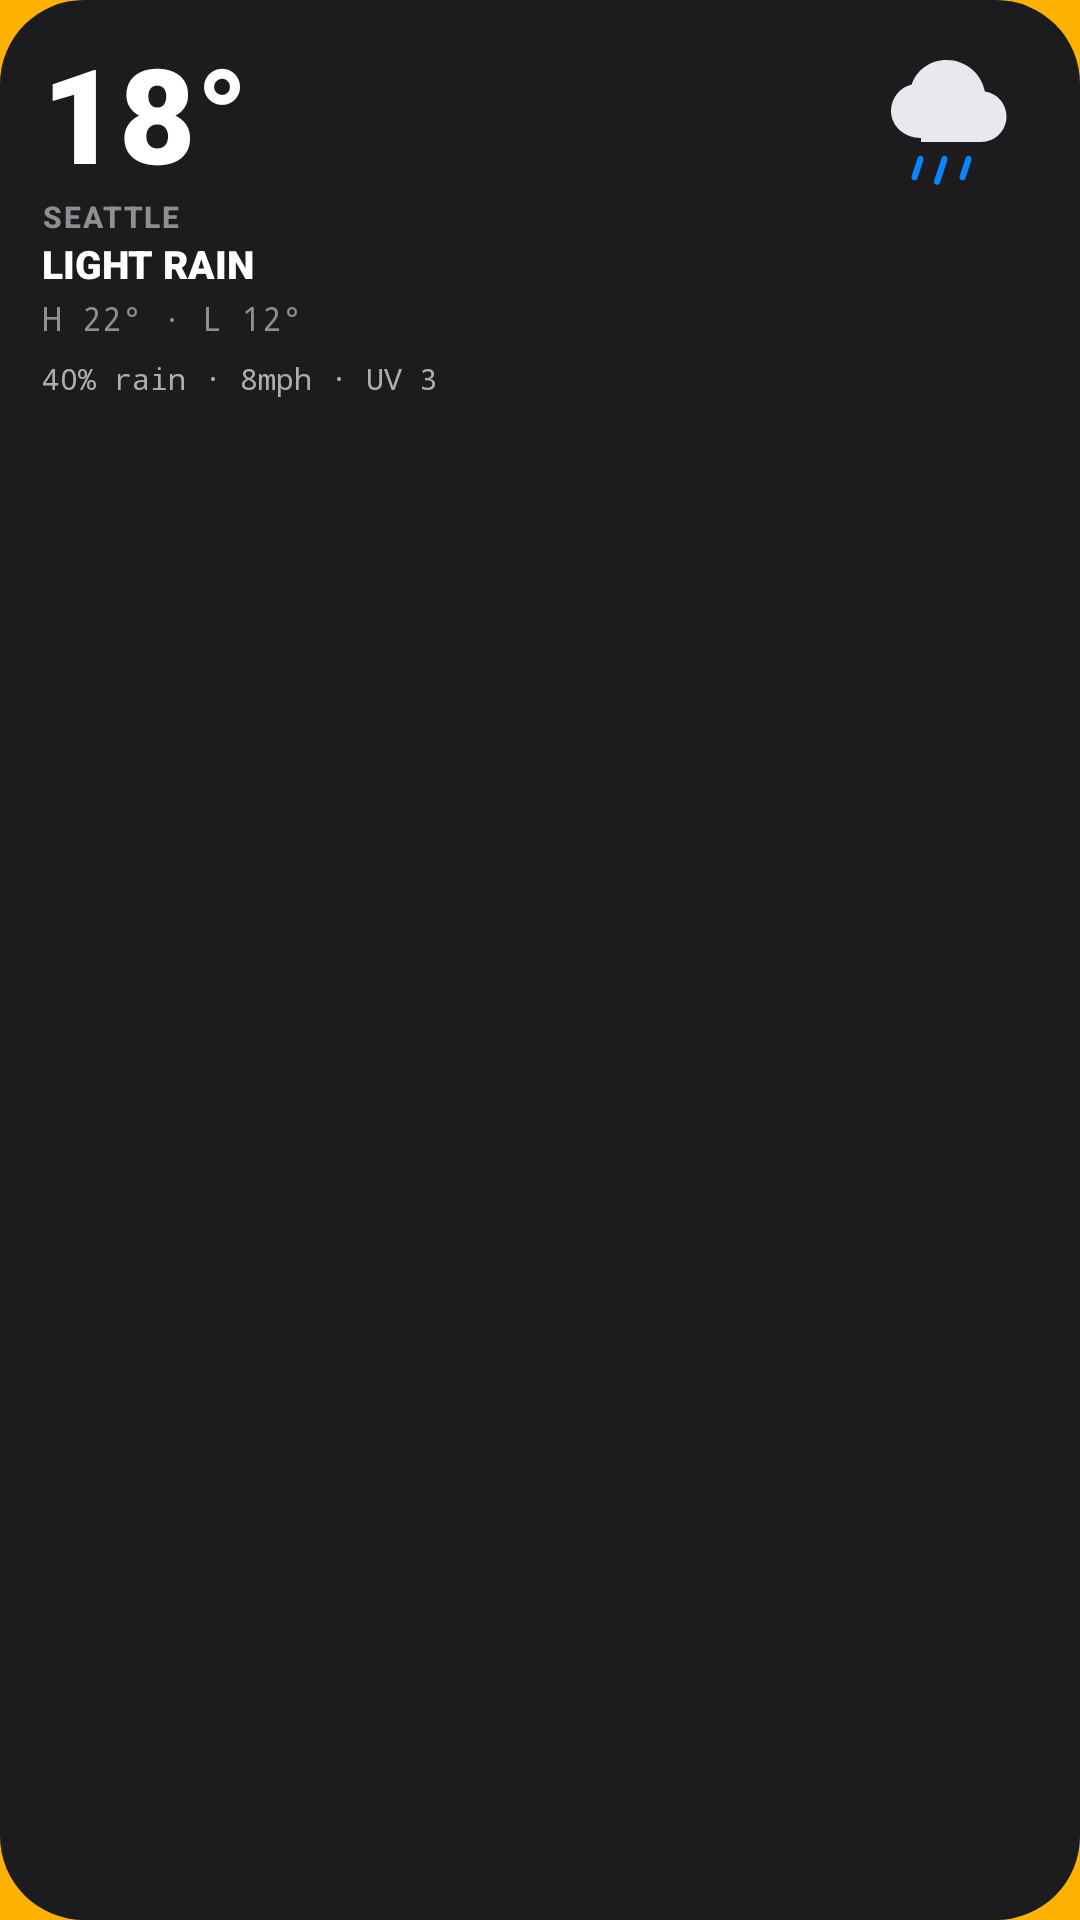

Icons on this 1080w x 1920h Android screen, each with the point to tap as [x,y]:
Weather icon: [949,122]
